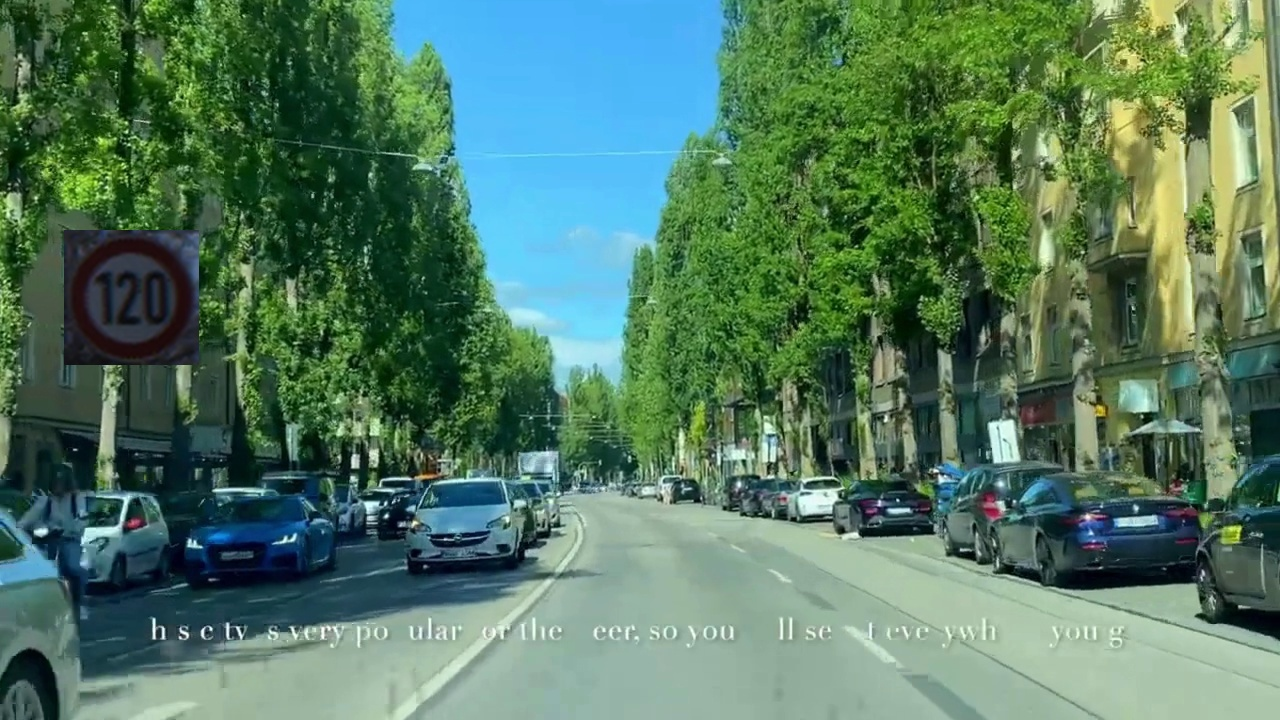Speed 120: (64, 230, 199, 365)
